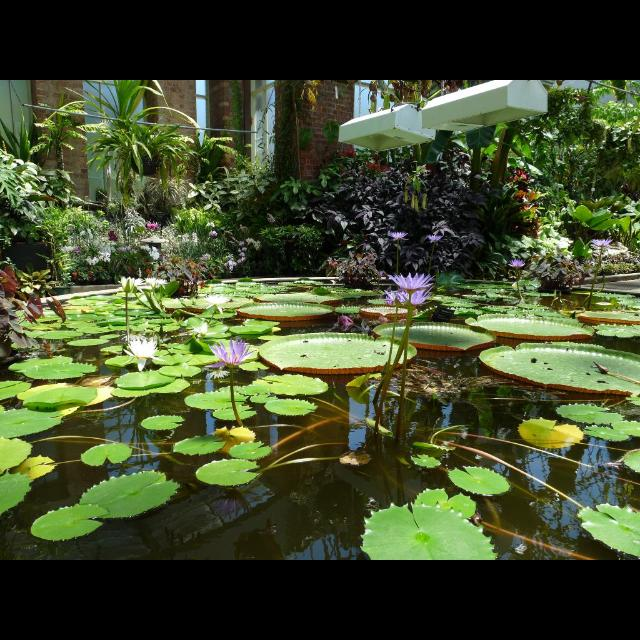Flower: (61, 230, 160, 282), (180, 221, 262, 271), (388, 260, 444, 306), (206, 338, 256, 367), (125, 338, 164, 370), (404, 291, 431, 307), (204, 293, 226, 311), (192, 324, 216, 336), (386, 290, 406, 304), (120, 276, 134, 292), (390, 232, 410, 240), (591, 238, 611, 246), (133, 277, 143, 289), (142, 276, 156, 284), (512, 260, 526, 268), (429, 235, 443, 242), (155, 278, 165, 286), (146, 220, 152, 228), (152, 221, 158, 227)
